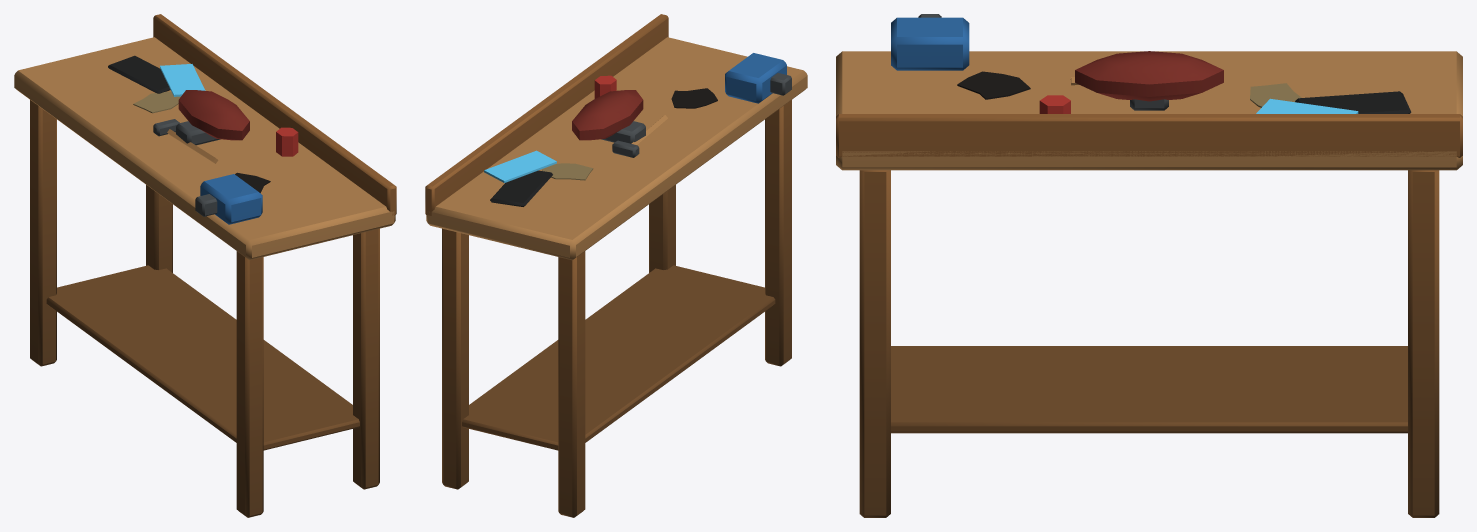
File: 91_etabli_bois.fbx
3 renders of one model, left to right at view 1: azimuth 30°, elevation 25°; view 2: azimuth 150°, elevation 25°; view 3: azimuth 270°, elevation 25°, orthographic. The views are drawn at different scales.
Visible parts, largest first — view 1: Etabli, Outils; view 2: Etabli, Outils; view 3: Etabli, Outils.
Part boxes in pixels (left/top/right/bottom): Etabli: left=14, top=14, right=396, bottom=517; Outils: left=108, top=55, right=298, bottom=224; Etabli: left=425, top=14, right=807, bottom=517; Outils: left=484, top=53, right=791, bottom=206; Etabli: left=836, top=51, right=1462, bottom=517; Outils: left=891, top=14, right=1411, bottom=113.
Bounding box in the file's own units: 0.448 × 0.84 × 1.12.
Materials: 1 (1 with a texture image).
